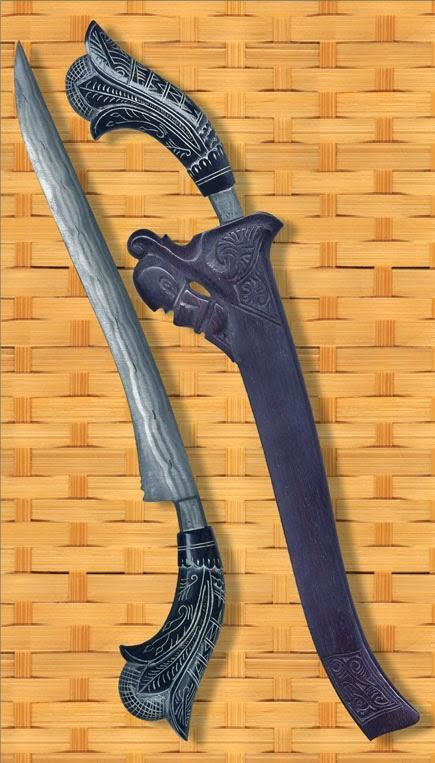facao: (0, 43, 233, 746)
